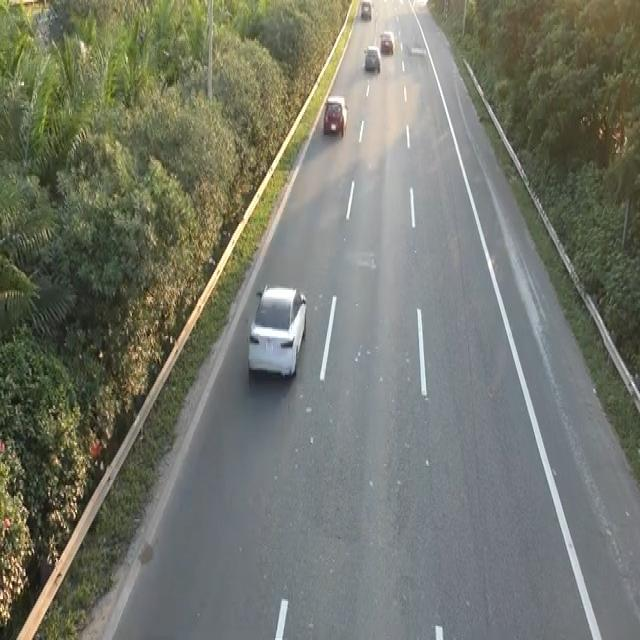bus: (245, 279, 310, 388), (322, 92, 347, 137)
